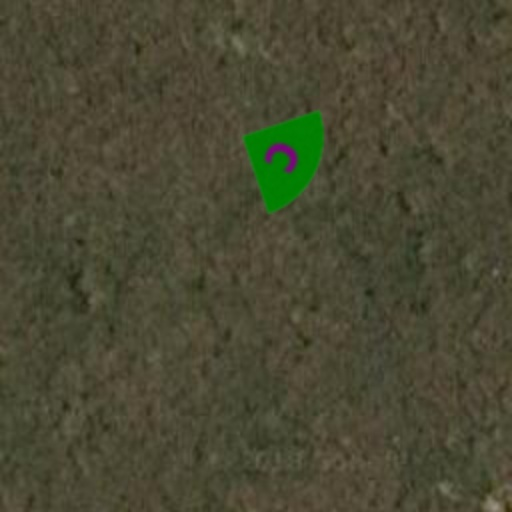quarter_circle: (212, 84, 360, 232)
